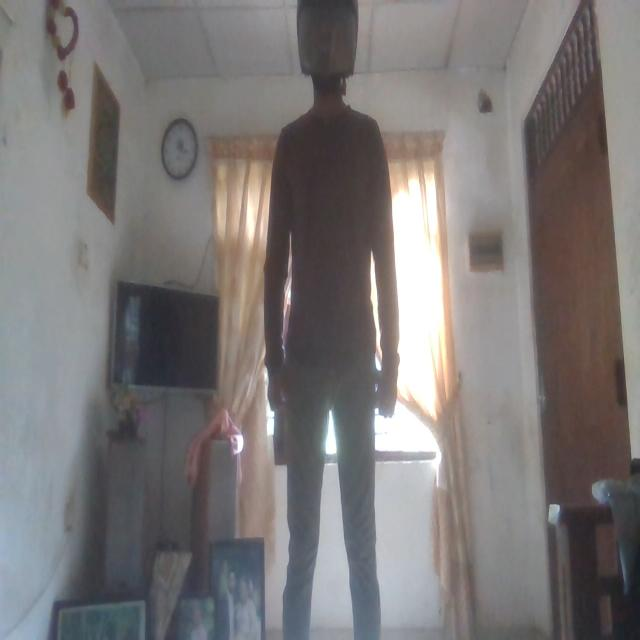Helmet_Wearer: (291, 0, 370, 108)
Person: (264, 5, 402, 640)
